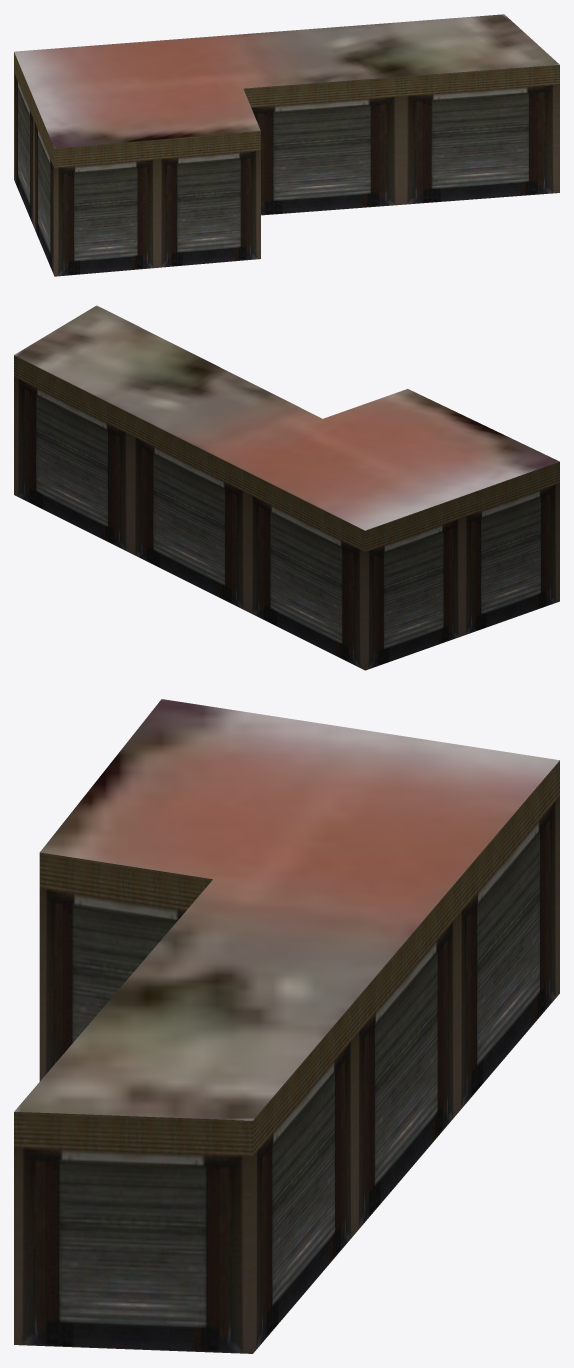
File: T_1T7T74PCUU.dae
The picture shows the model from 3 angles, top to bottom: view 1: azimuth 30°, elevation 25°; view 2: azimuth 150°, elevation 25°; view 3: azimuth 270°, elevation 25°; orthographic projection. The views are drawn at different scales.
Visible parts, largest first — view 1: SketchUp (×4); view 2: SketchUp (×3); view 3: SketchUp (×4).
Part boxes in pixels (<box>): SketchUp (×4): <box>14,14,559,276</box>; SketchUp (×3): <box>14,305,559,670</box>; SketchUp (×4): <box>14,699,559,1353</box>.
Size of the model in its own units: 17.92 by 9.8 by 4.62.
Materials: 2 (2 with a texture image).
